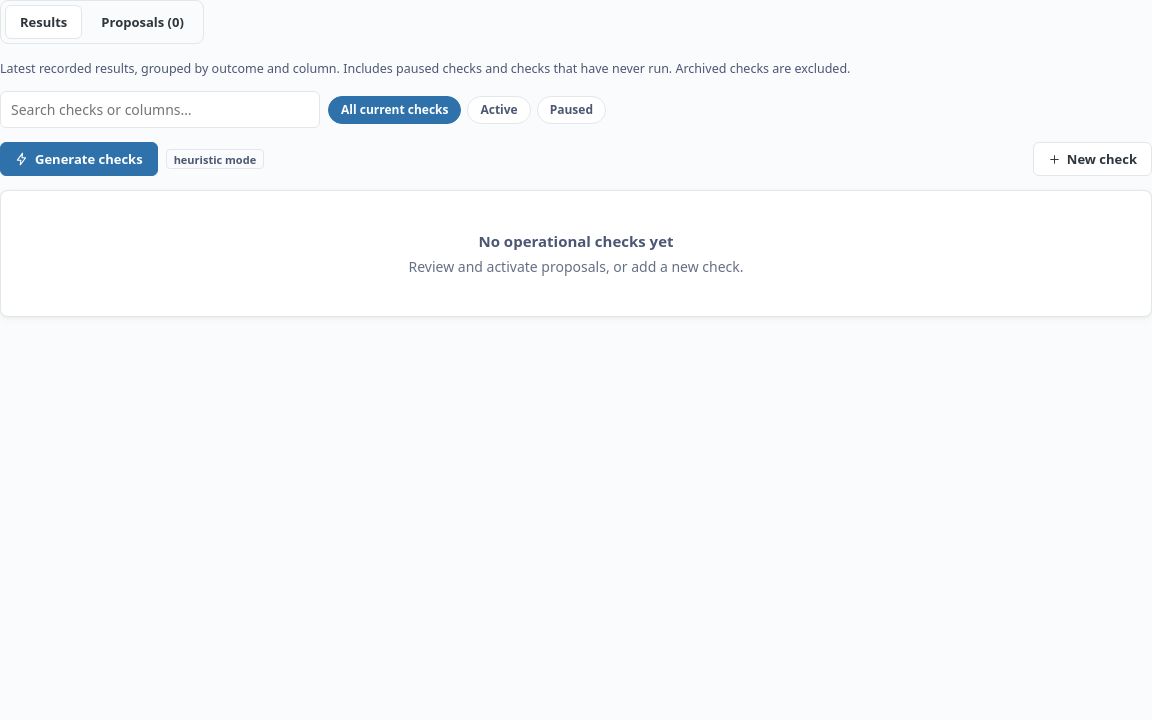
Test: New check — type picker › names the select from its caption and exposes the description separately
Click the button "New check": click(1092, 159) [1033,142,1151,176]
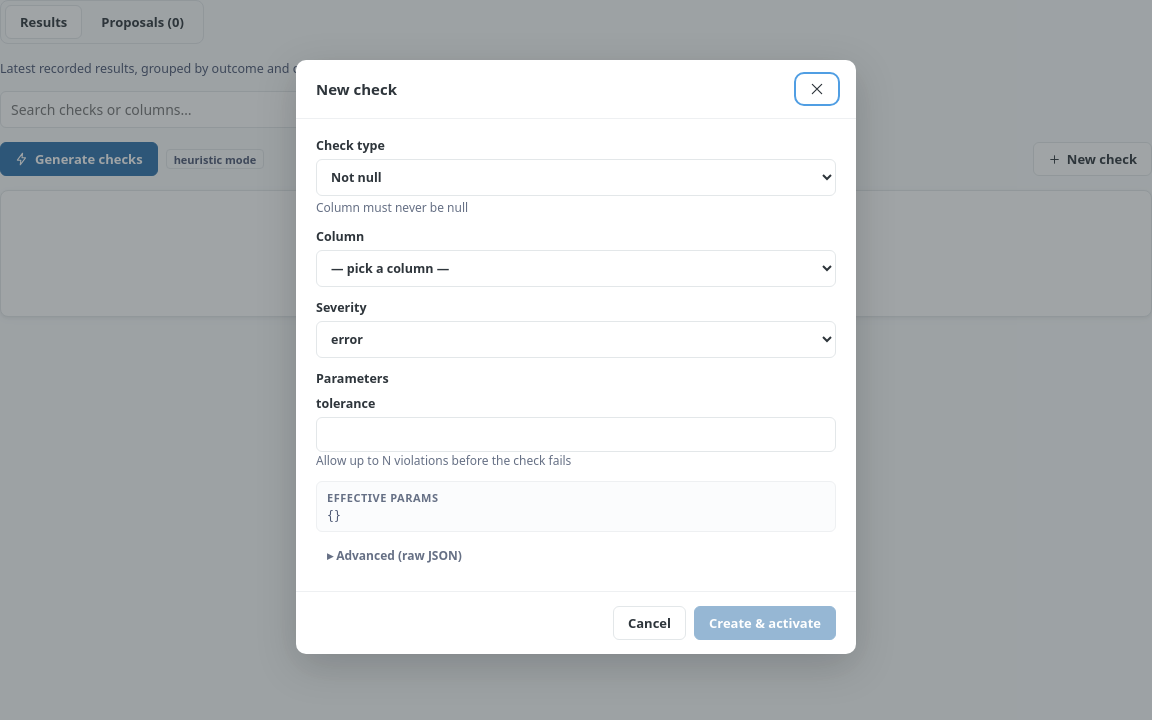
Result: the dropdown labelled "Check type" shows "Not null" at [316,159,836,196]
